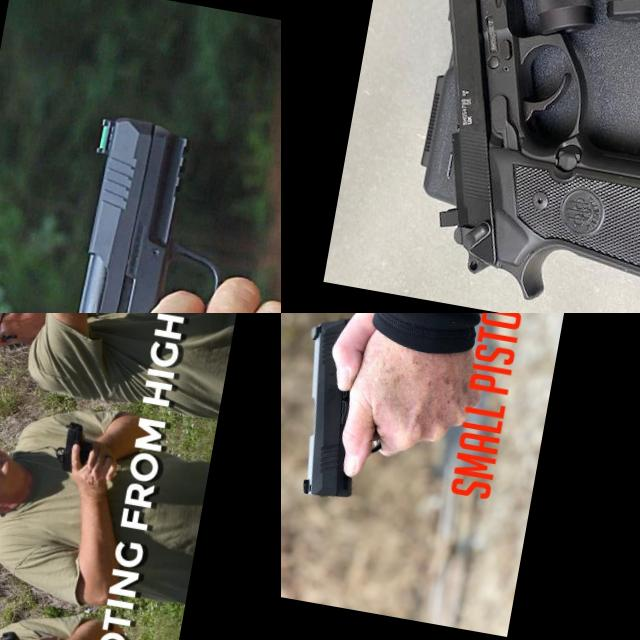handgun: (357, 0, 640, 313), (27, 107, 252, 313), (281, 313, 403, 507), (51, 416, 98, 476), (16, 313, 68, 344), (0, 626, 44, 640)
